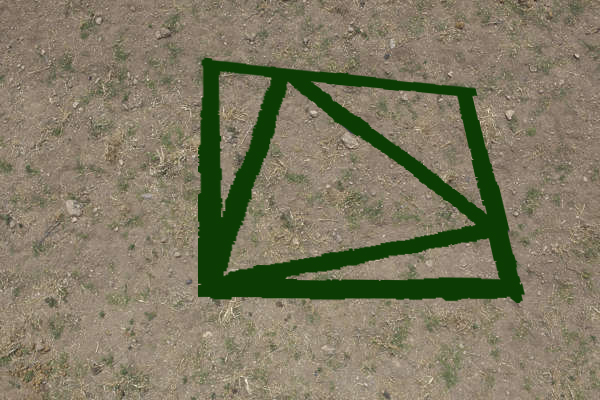marker: (191, 55, 528, 308)
